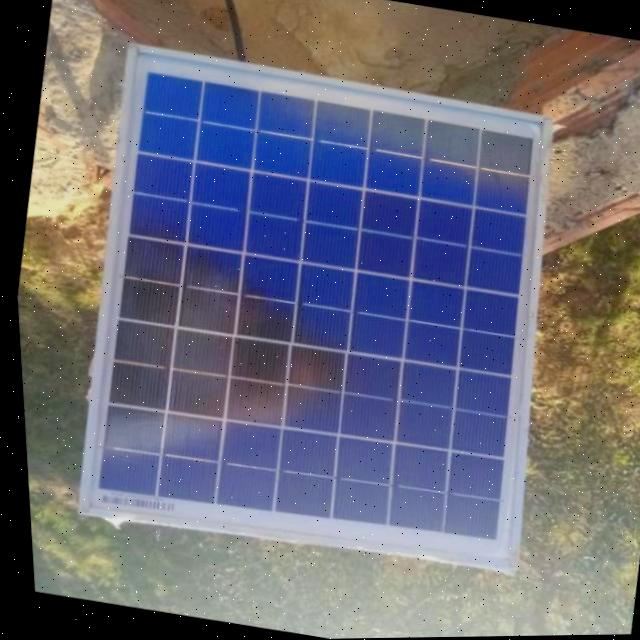Normal Solar Panel: (45, 40, 588, 588)
